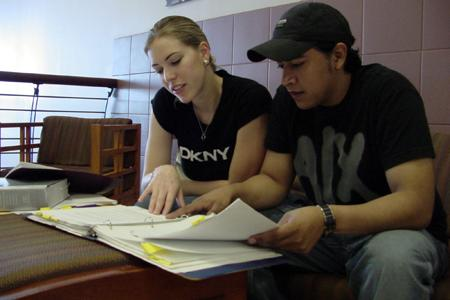person: (165, 4, 450, 300)
